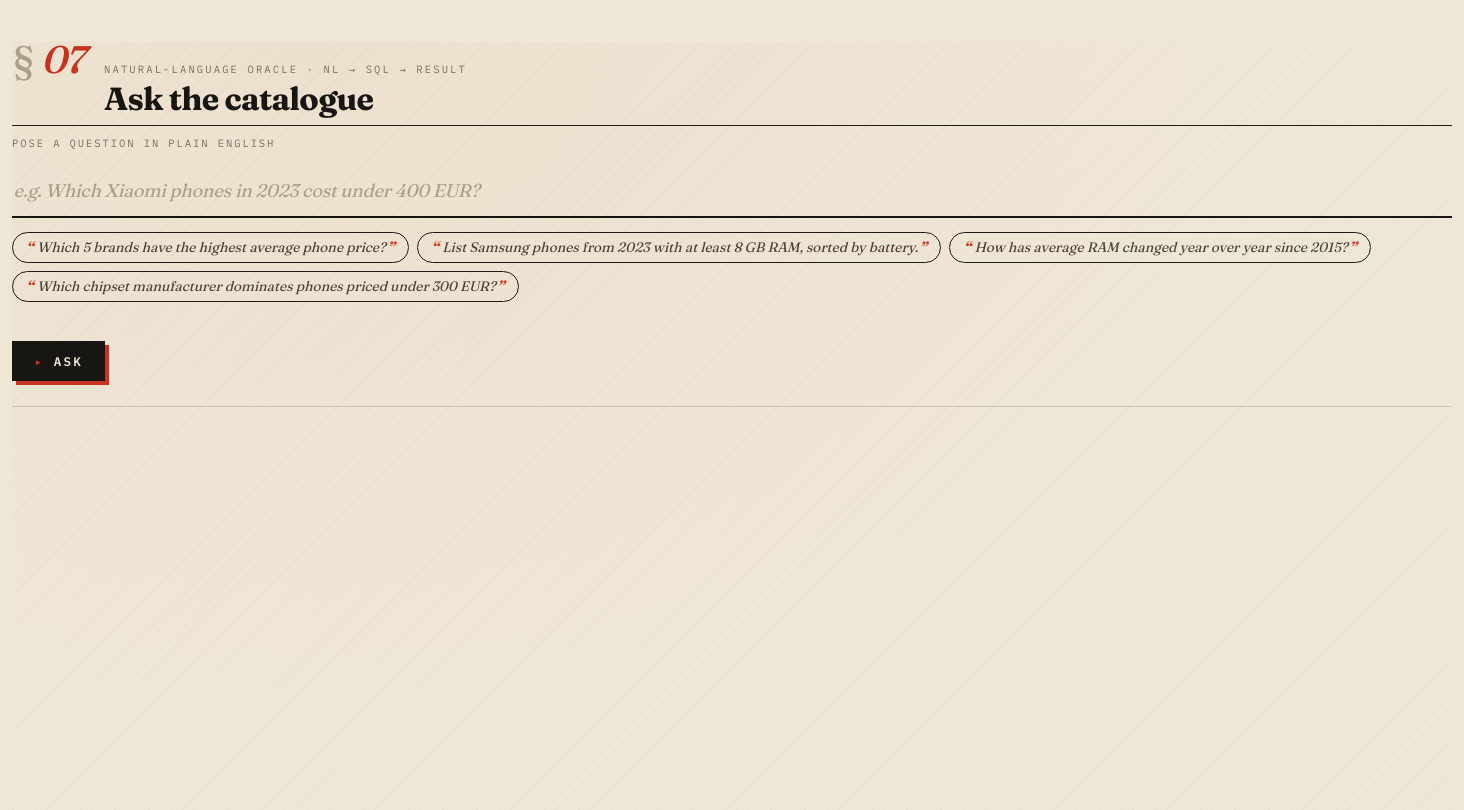
Test: AskView › shows the self-correction badge after retries
Type "q" into the field with placeholder "e.g. Which Xiaomi phones in 2023 cost under 400 EUR?" at [732, 192], box [12,166,1452,218]
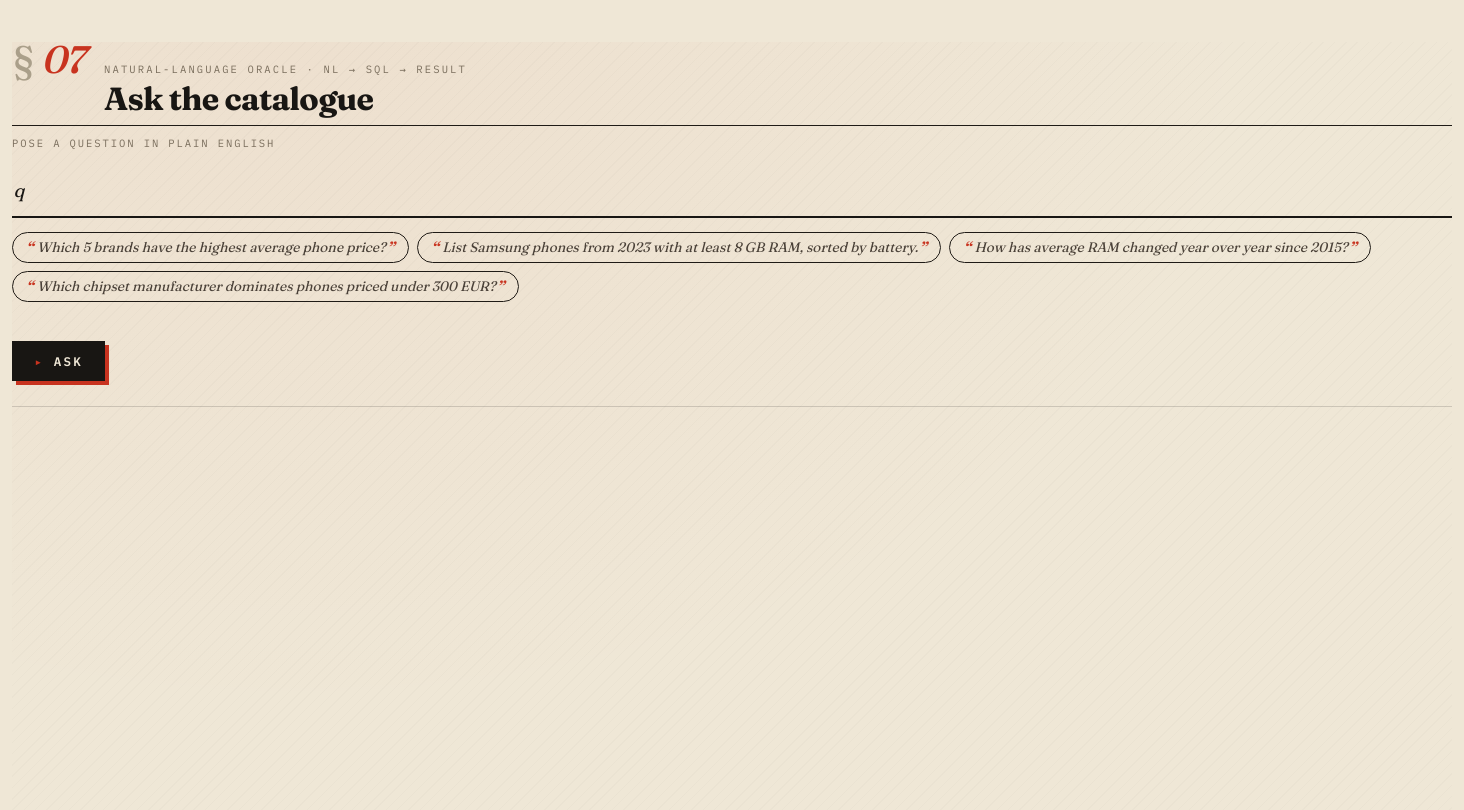
Click the button "Ask" at [59, 361], box [12,341,105,381]
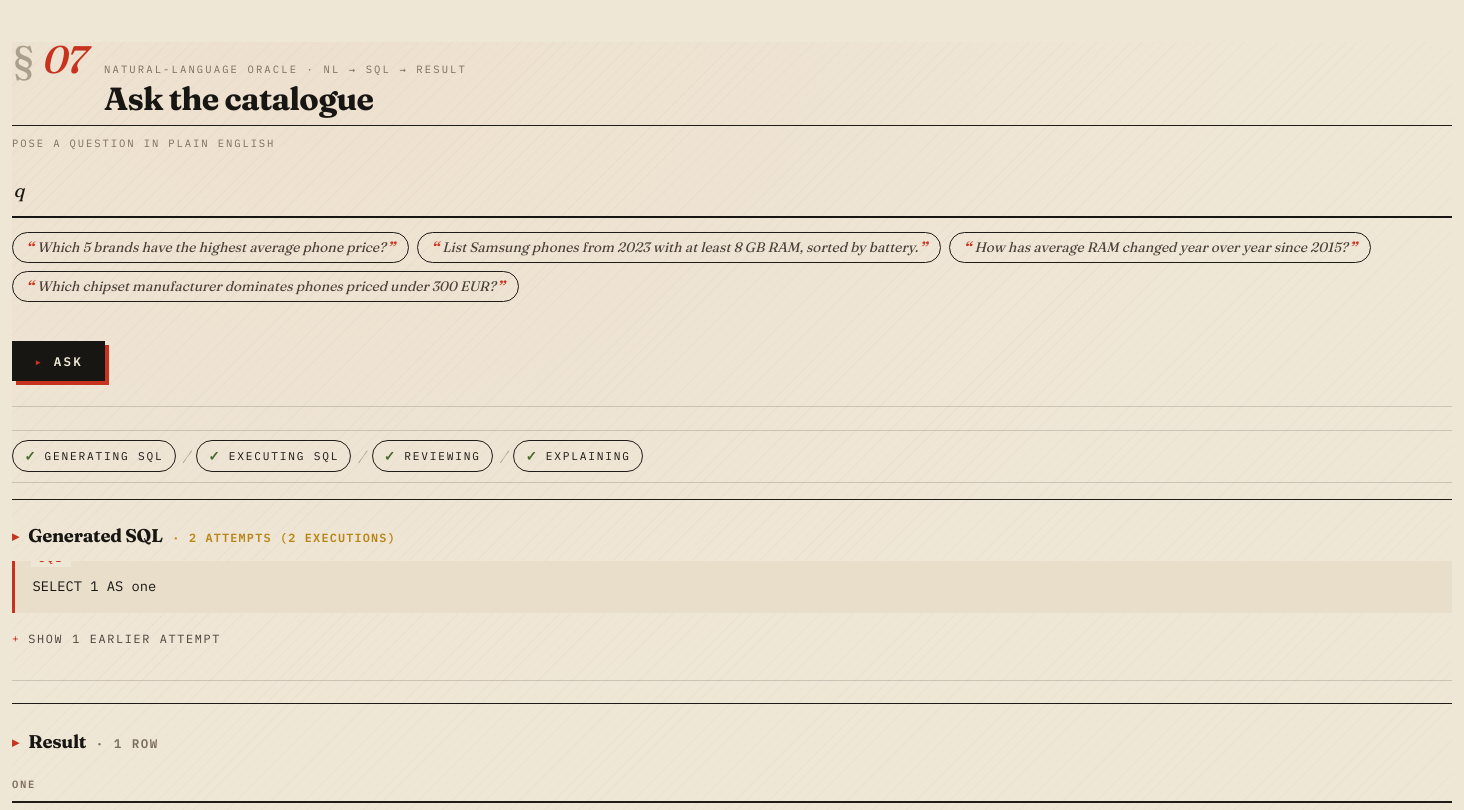
Check: the text "· 2 attempts (2 executions)" is shown, box [172,529,396,547]
Check: the heading "Show 1 earlier attempt" is shown, box [28,631,221,646]
